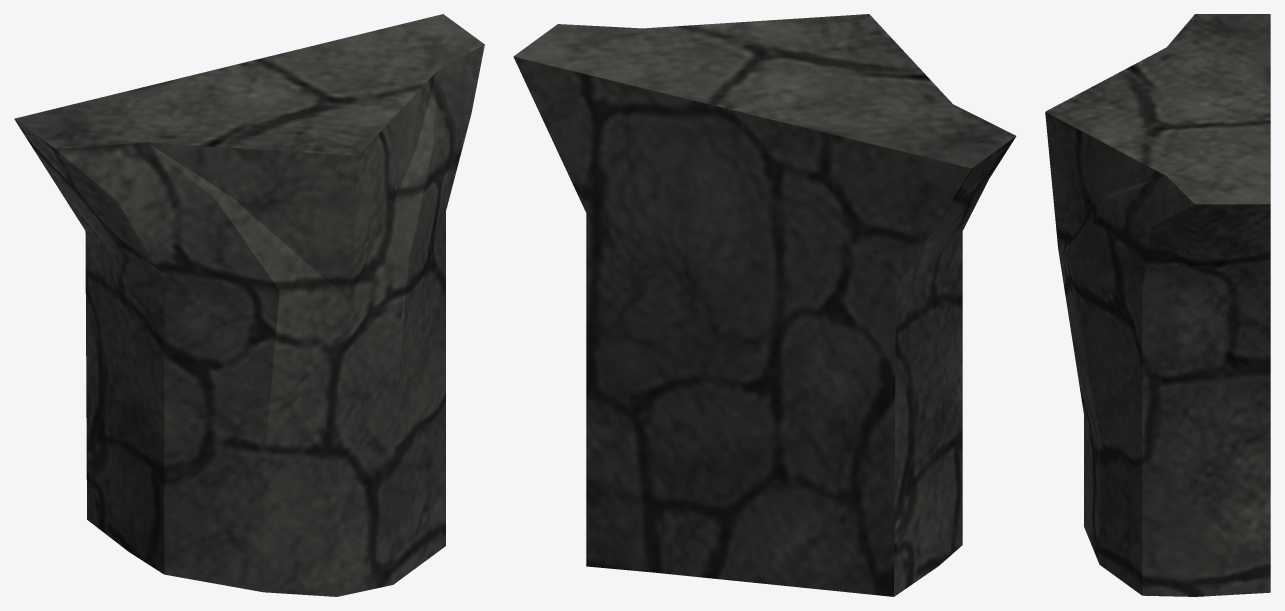
Rendered from stone_pillar_3.fbx.
3 views of the same model, side by side, from view 1: azimuth 30°, elevation 25°; view 2: azimuth 150°, elevation 25°; view 3: azimuth 270°, elevation 25° (orthographic). The views are drawn at different scales.
Parts seen in each view (by area): view 1: ruraltown_house_standard.009; view 2: ruraltown_house_standard.009; view 3: ruraltown_house_standard.009.
Part boxes in pixels (x1=…): ruraltown_house_standard.009: x1=14, y1=14, x2=484, y2=596; ruraltown_house_standard.009: x1=513, y1=14, x2=1016, y2=596; ruraltown_house_standard.009: x1=1045, y1=14, x2=1270, y2=596.
Bounding box in the file's own units: 111 × 115 × 55.57.
